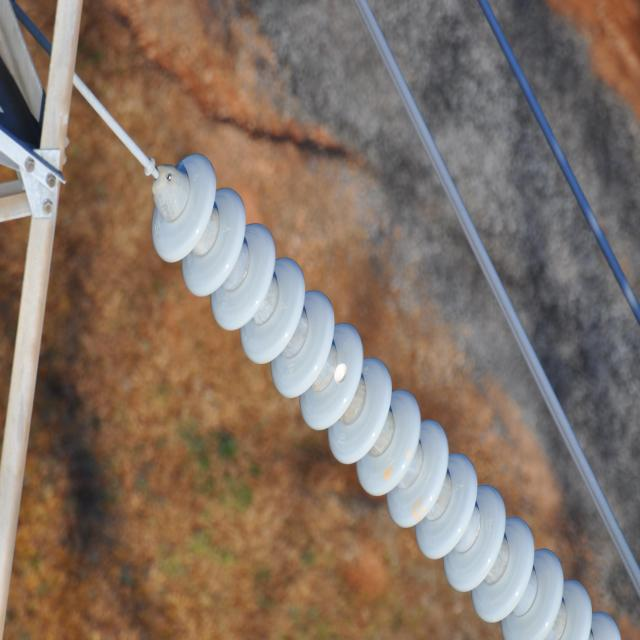broken: (329, 359, 349, 389)
insulator: (153, 153, 623, 640)
